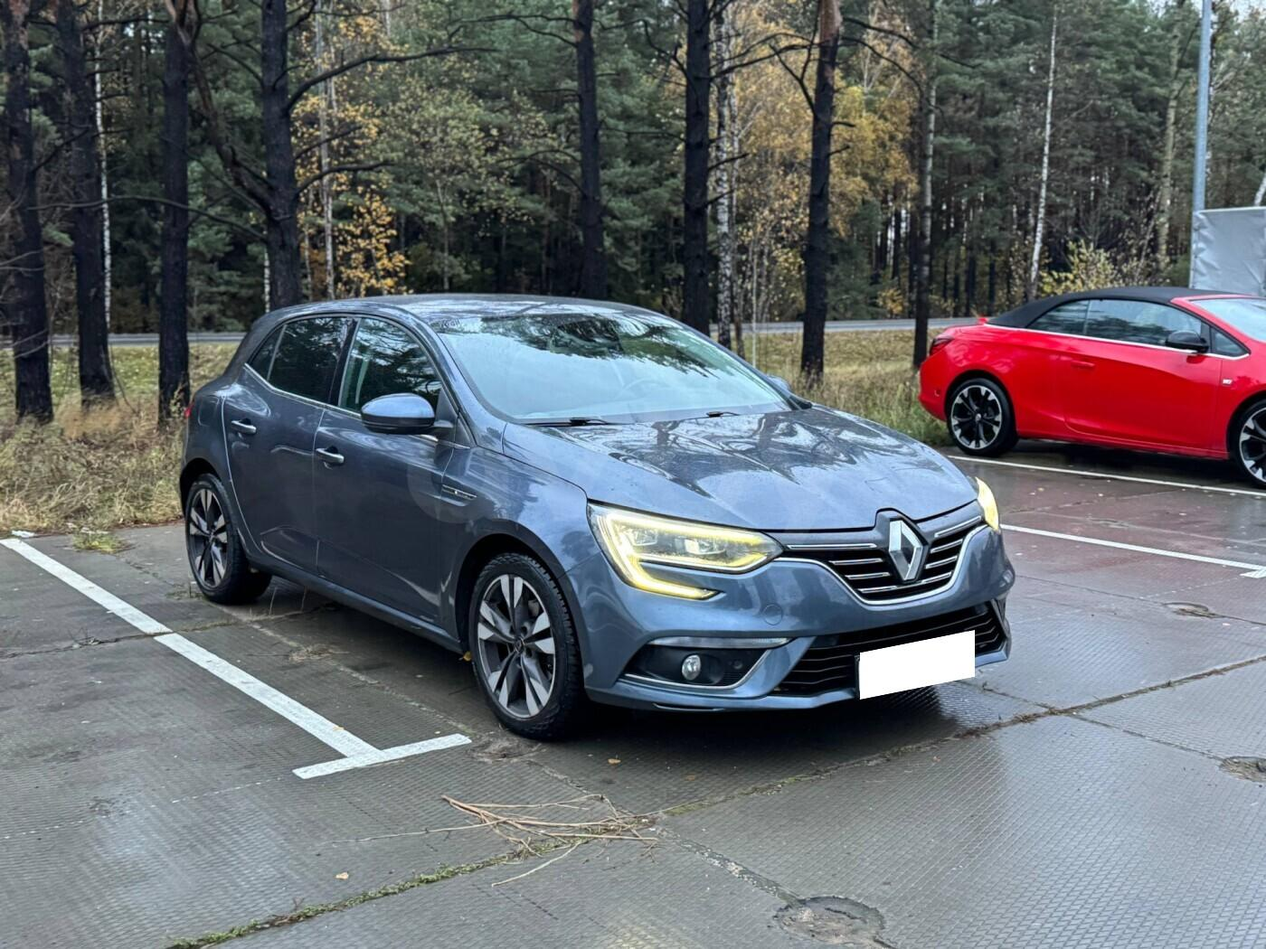Megane_2016-2020: (180, 291, 1018, 736)
